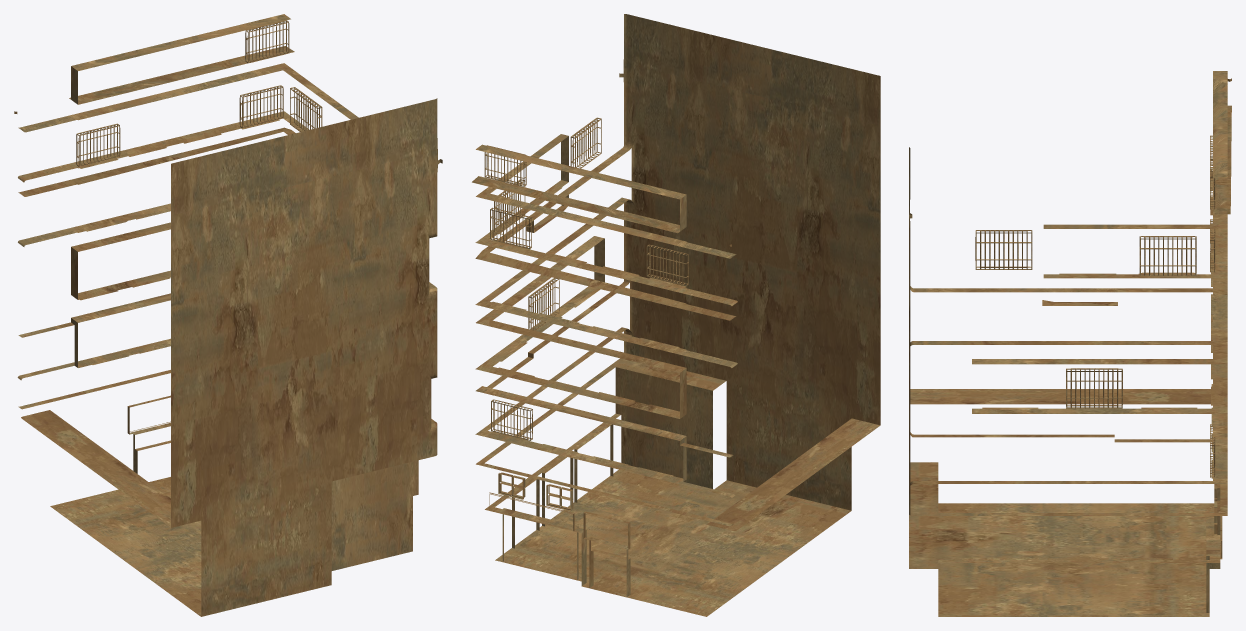
The model's file is bhk2.glb.
3 views of the same model, side by side, from view 1: azimuth 30°, elevation 25°; view 2: azimuth 150°, elevation 25°; view 3: azimuth 270°, elevation 25° (orthographic). The views are drawn at different scales.
Parts seen in each view (by area): view 1: Object_370; view 2: Object_370; view 3: Object_370.
Boxes of the visible parts, x1,y1,x2,y2 form: Object_370: (14,14,442,616); Object_370: (472,14,880,616); Object_370: (909,71,1231,616).
Bounding box in the file's own units: 2.03 × 3.29 × 2.03.
1 material, 1 textured.
